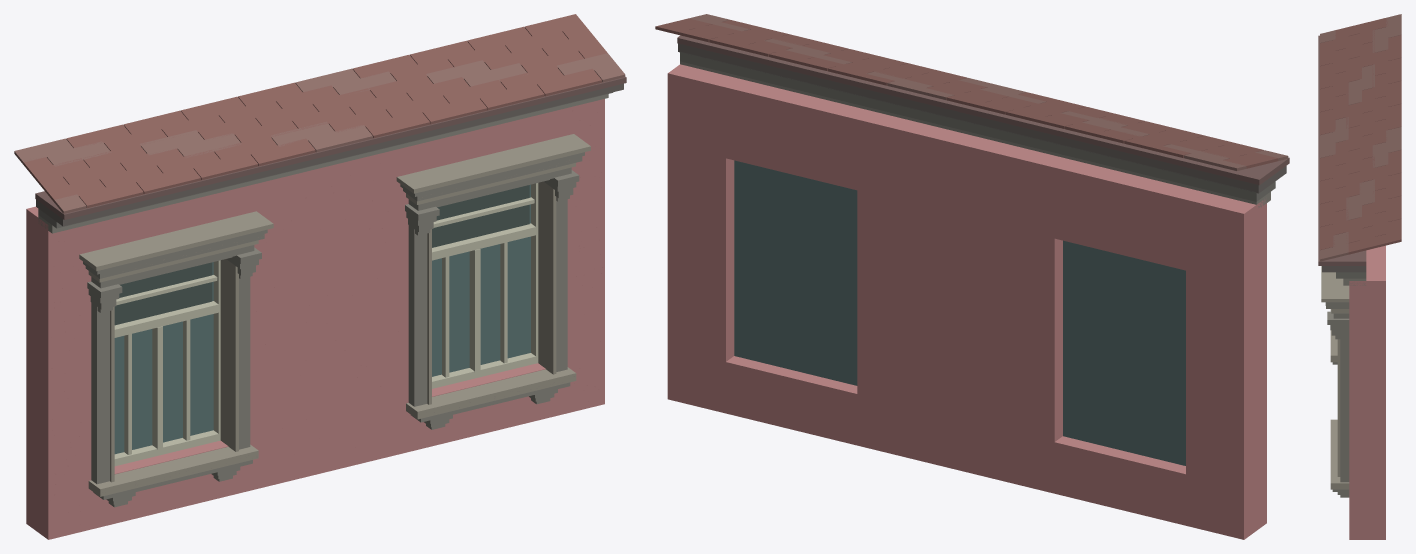
The model's file is hongkou-shanyin-181-villa-hooded-windows-lod.glb.
3 renders of one model, left to right at view 1: azimuth 30°, elevation 25°; view 2: azimuth 150°, elevation 25°; view 3: azimuth 270°, elevation 25°, orthographic. The views are drawn at different scales.
Parts seen in each view (by area): view 1: 山阴路181号花园住宅临街二层窗罩、窗台托与瓦檐; view 2: 山阴路181号花园住宅临街二层窗罩、窗台托与瓦檐; view 3: 山阴路181号花园住宅临街二层窗罩、窗台托与瓦檐.
Boxes of the visible parts, x1,y1,x2,y2 form: 山阴路181号花园住宅临街二层窗罩、窗台托与瓦檐: (14,14,626,539); 山阴路181号花园住宅临街二层窗罩、窗台托与瓦檐: (655,14,1289,539); 山阴路181号花园住宅临街二层窗罩、窗台托与瓦檐: (1318,14,1401,539).
Bounding box in the file's own units: 3.81 × 2.37 × 0.592.
